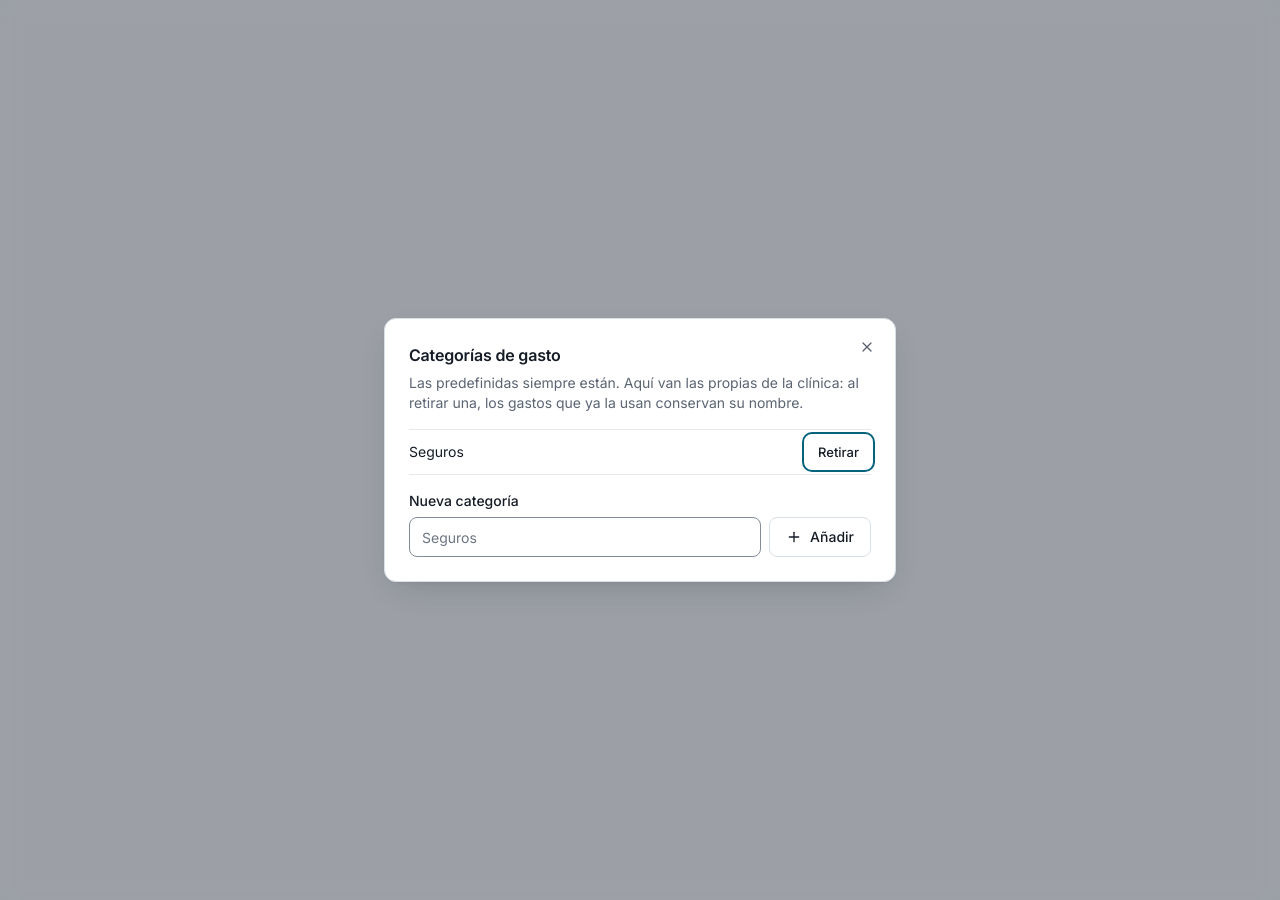
it: ExpenseCategoriesModal (DX-274) › añade una con el nombre limpio y recarga la lista
Type "  Publicidad   web " into the field labelled "Nueva categoría".
click(585, 537); type("  Publicidad   web ")  # box [409,517,761,557]
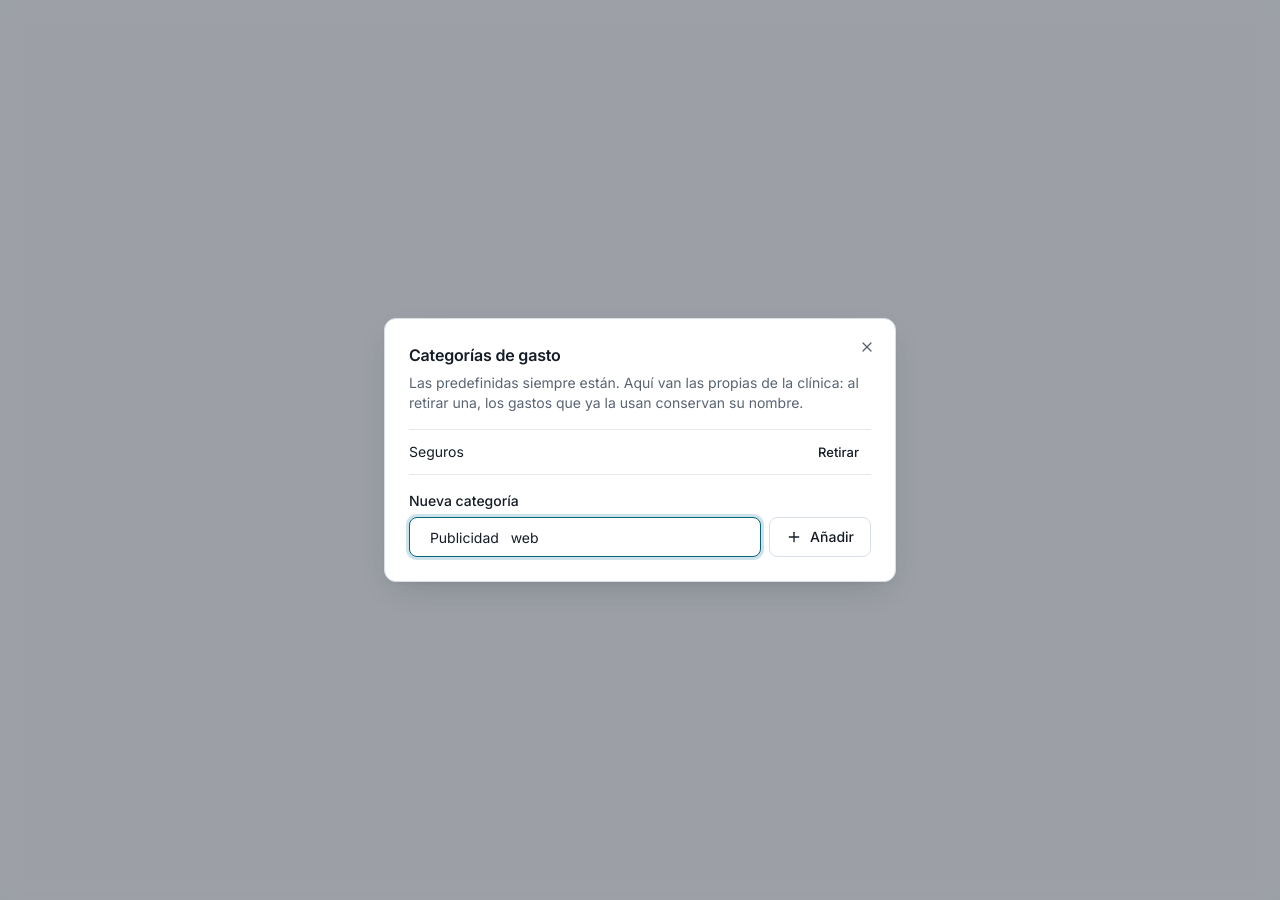
Click the button "Añadir".
click(820, 537)  # box [769,517,871,557]
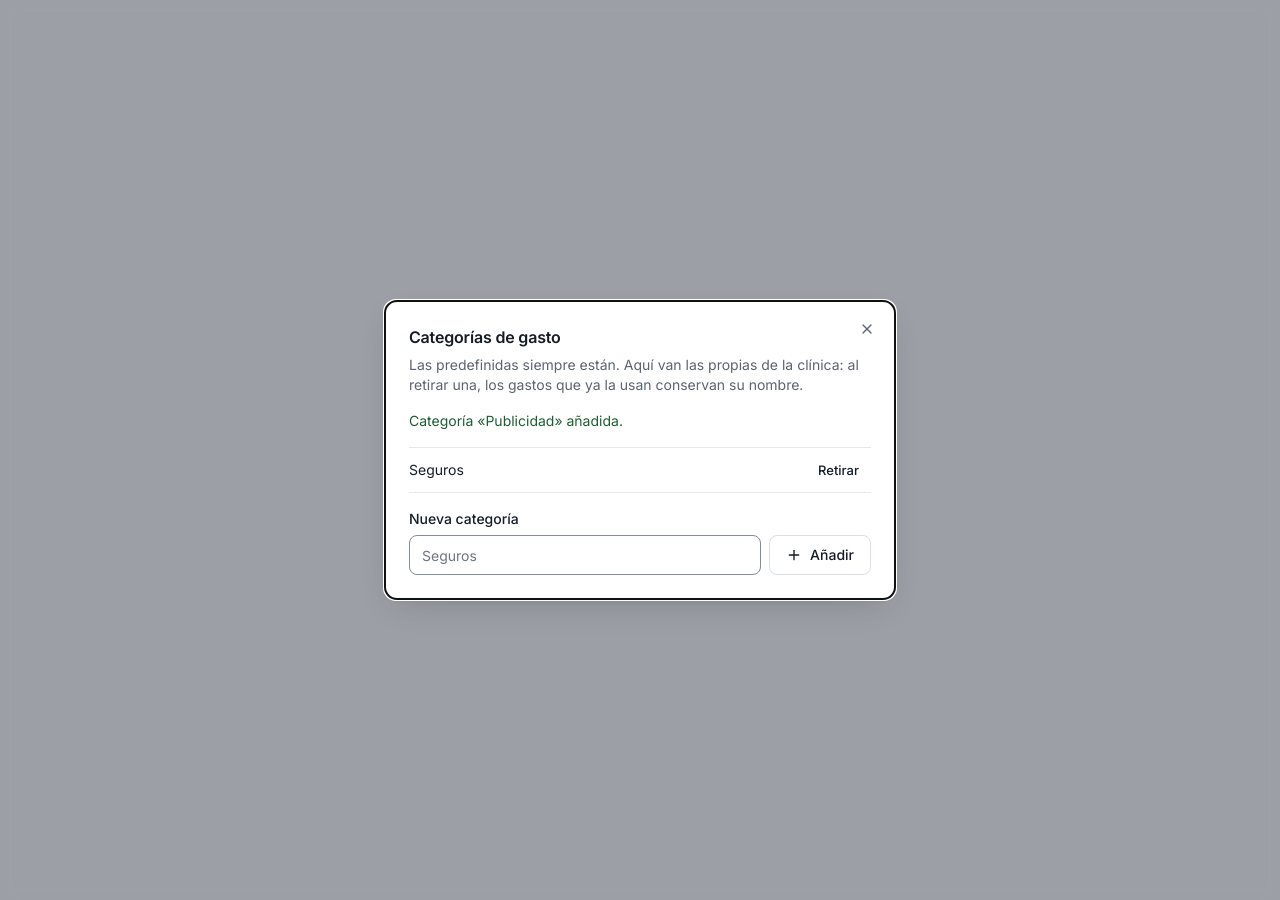
Expected: the text "Categoría «Publicidad» añadida." is shown, [409,412,623,429]
